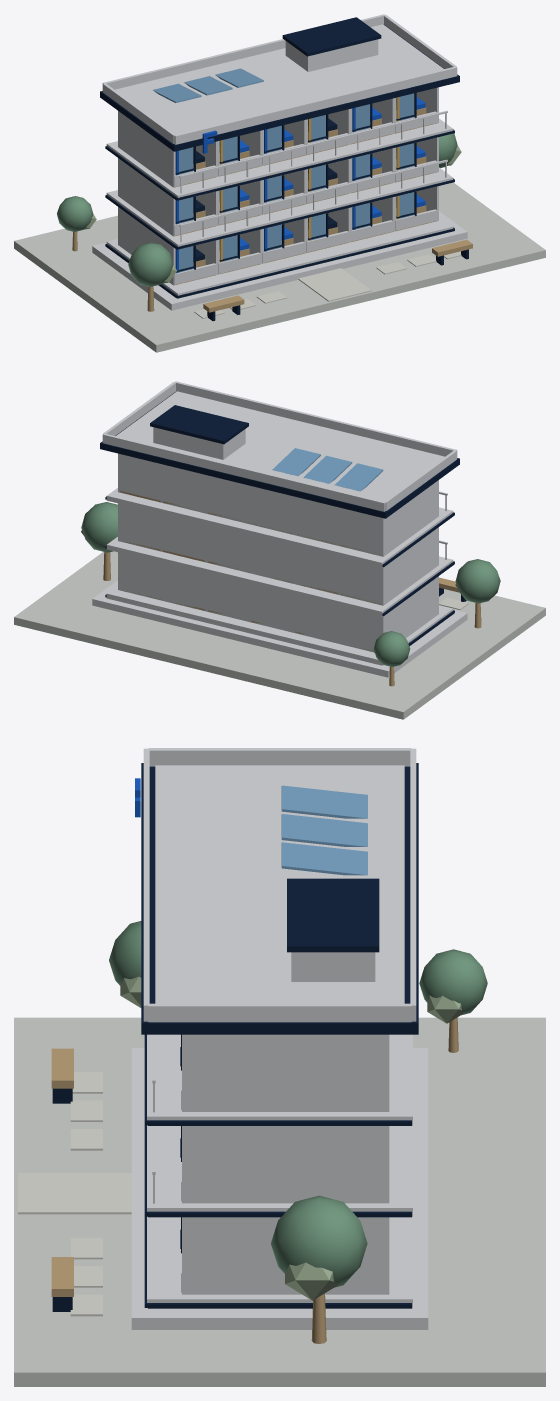
File: dataf-dormitory.glb
3 views of the same model, one above another, from view 1: azimuth 30°, elevation 25°; view 2: azimuth 150°, elevation 25°; view 3: azimuth 270°, elevation 25° (orthographic). The views are drawn at different scales.
Visible parts, largest first — view 1: foundation-and-community-garden, roof-and-shared-facilities, floor-3-structural-frame, floor-2-structural-frame, floor-1-structural-frame, room-7-furnished, room-13-furnished, room-1-furnished, room-3-furnished, room-6-furnished, room-5-furnished, room-2-furnished (+11 smaller); view 2: foundation-and-community-garden, roof-and-shared-facilities, floor-3-structural-frame, floor-2-structural-frame, room-7-furnished, room-13-furnished, floor-1-structural-frame, room-1-furnished, room-18-furnished, room-17-furnished, room-14-furnished, room-15-furnished (+11 smaller); view 3: foundation-and-community-garden, roof-and-shared-facilities, room-18-furnished, room-12-furnished, room-6-furnished, floor-3-structural-frame, floor-1-structural-frame, floor-2-structural-frame.
Boxes of the visible parts, x1,y1,x2,y2 form: foundation-and-community-garden: (14,133,545,352); roof-and-shared-facilities: (100,14,459,153); floor-3-structural-frame: (105,110,454,200); floor-2-structural-frame: (105,159,454,249); floor-1-structural-frame: (105,216,454,298); room-7-furnished: (118,158,217,236); room-13-furnished: (118,111,218,187); room-1-furnished: (118,207,218,285); room-3-furnished: (261,218,306,263); room-6-furnished: (394,186,438,231); room-5-furnished: (350,197,394,242); room-2-furnished: (218,229,261,274); foundation-and-community-garden: (14,502,545,719); roof-and-shared-facilities: (100,381,459,518); floor-3-structural-frame: (105,488,454,567); floor-2-structural-frame: (105,537,454,616); room-7-furnished: (338,527,438,605); room-13-furnished: (338,480,438,556); floor-1-structural-frame: (105,585,454,665); room-1-furnished: (338,576,438,652); room-18-furnished: (118,453,162,502); room-17-furnished: (162,464,206,513); room-14-furnished: (294,497,339,545); room-15-furnished: (250,486,295,534); foundation-and-community-garden: (14,921,545,1386); roof-and-shared-facilities: (135,748,418,1034); room-18-furnished: (180,1034,389,1111); room-12-furnished: (180,1126,389,1203); room-6-furnished: (180,1217,389,1294); floor-3-structural-frame: (144,1034,412,1125); floor-1-structural-frame: (144,1216,412,1308); floor-2-structural-frame: (144,1125,412,1217).
Bounding box in the file's own units: 15 × 7.04 × 9.5.
